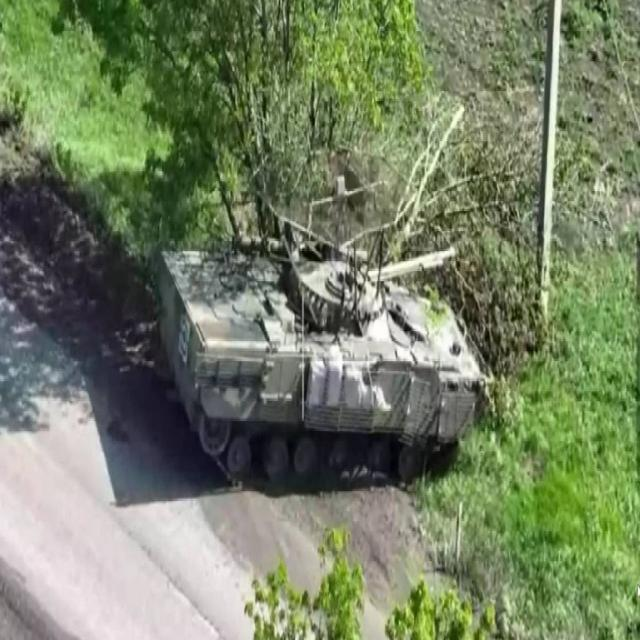APC-IFV: (156, 217, 485, 493)
